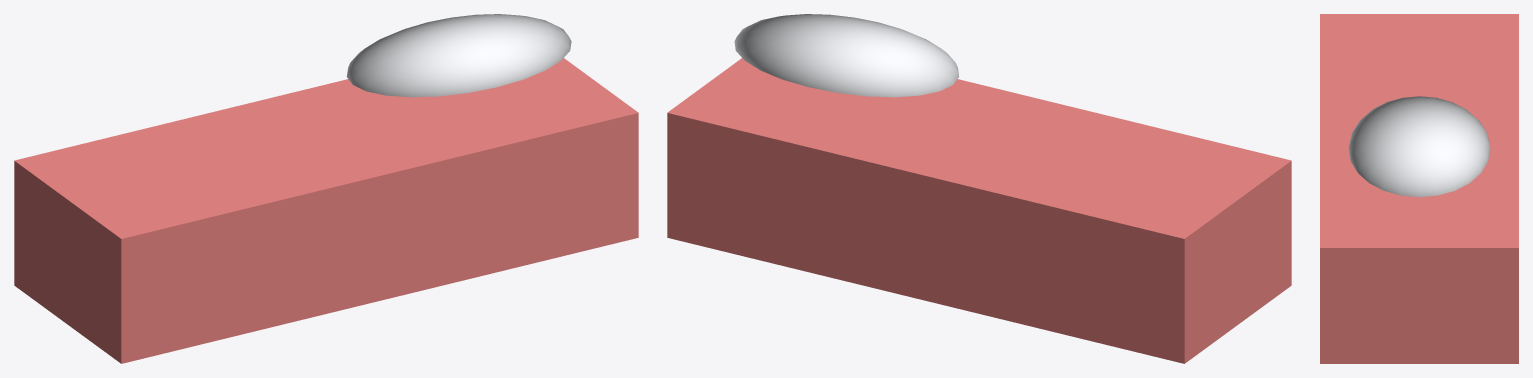
File: dirty_worktop.glb
3 views of the same model, side by side, from view 1: azimuth 30°, elevation 25°; view 2: azimuth 150°, elevation 25°; view 3: azimuth 270°, elevation 25° (orthographic). The views are drawn at different scales.
Visible parts, largest first — view 1: dirty utility worktop with sink, small inset utility sink; view 2: dirty utility worktop with sink, small inset utility sink; view 3: dirty utility worktop with sink, small inset utility sink.
Part boxes in pixels (x1,y1,x2,y2): dirty utility worktop with sink: (14, 58, 638, 363); small inset utility sink: (346, 14, 571, 97); dirty utility worktop with sink: (667, 58, 1291, 363); small inset utility sink: (734, 14, 959, 97); dirty utility worktop with sink: (1320, 14, 1518, 363); small inset utility sink: (1348, 96, 1490, 197).
Size of the model in its own units: 0.78 by 0.28 by 0.28.
